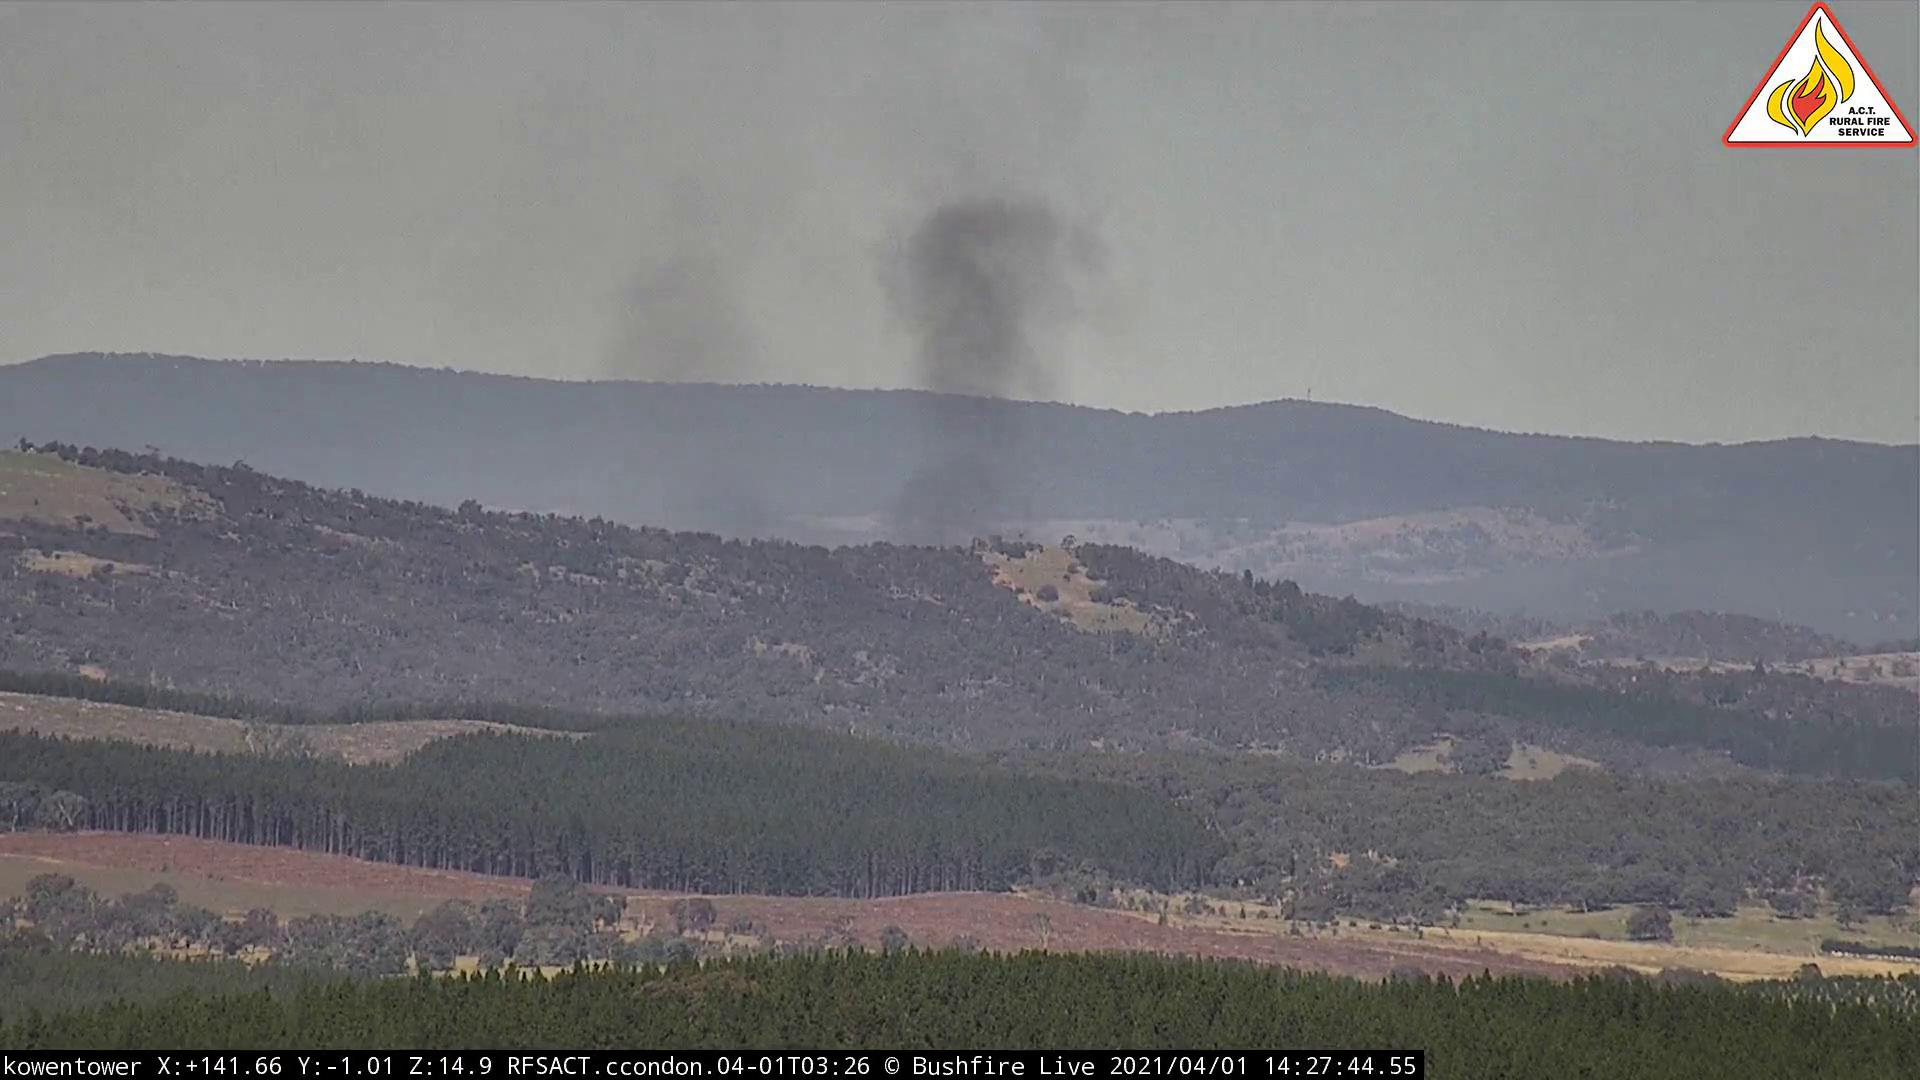instance_salient_object: (849, 131, 1191, 570), (516, 135, 807, 592)
